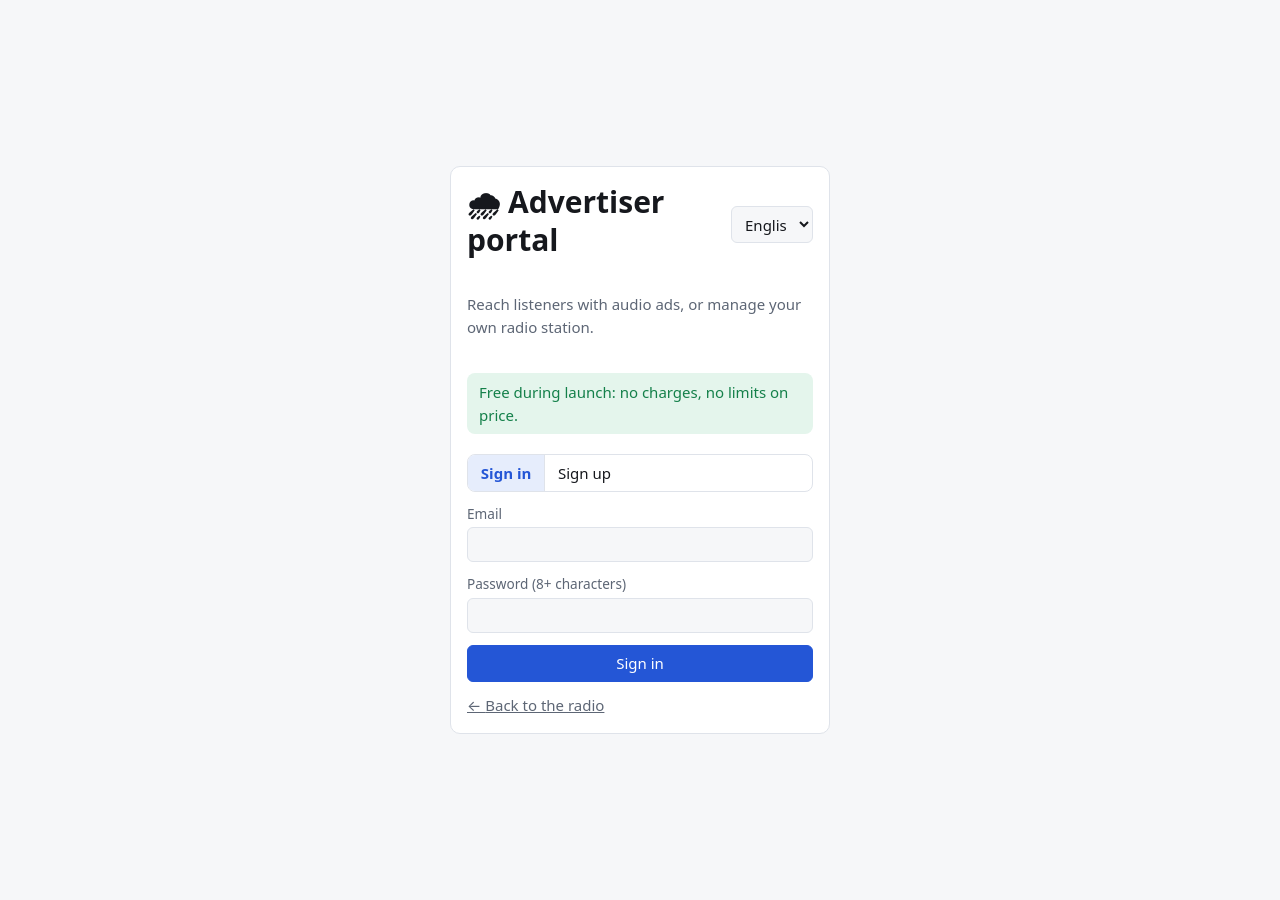
customer portal › shows the FREE note, lets a new customer sign up, and keeps the token in its own store
The image size is (1280, 900).
expect the text "Free during launch: no charges, no limits on price." is shown: met, box top-left (467, 373), bottom-right (813, 434)
Click the tab "Sign up" at (584, 473), box top-left (544, 455), bottom-right (624, 490)
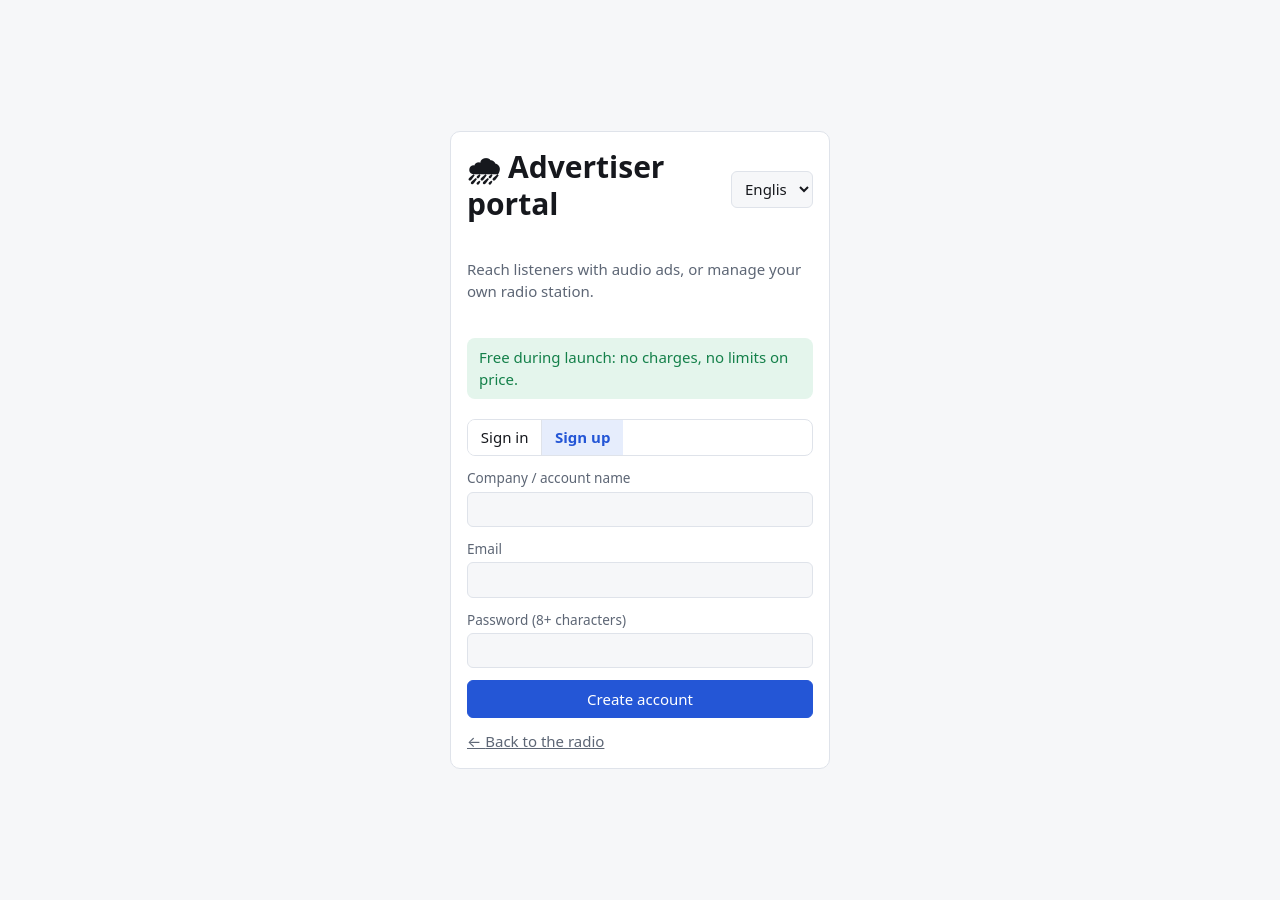
Type "Acme" into the field labelled "Company / account name" at (640, 509), box top-left (467, 492), bottom-right (813, 527)
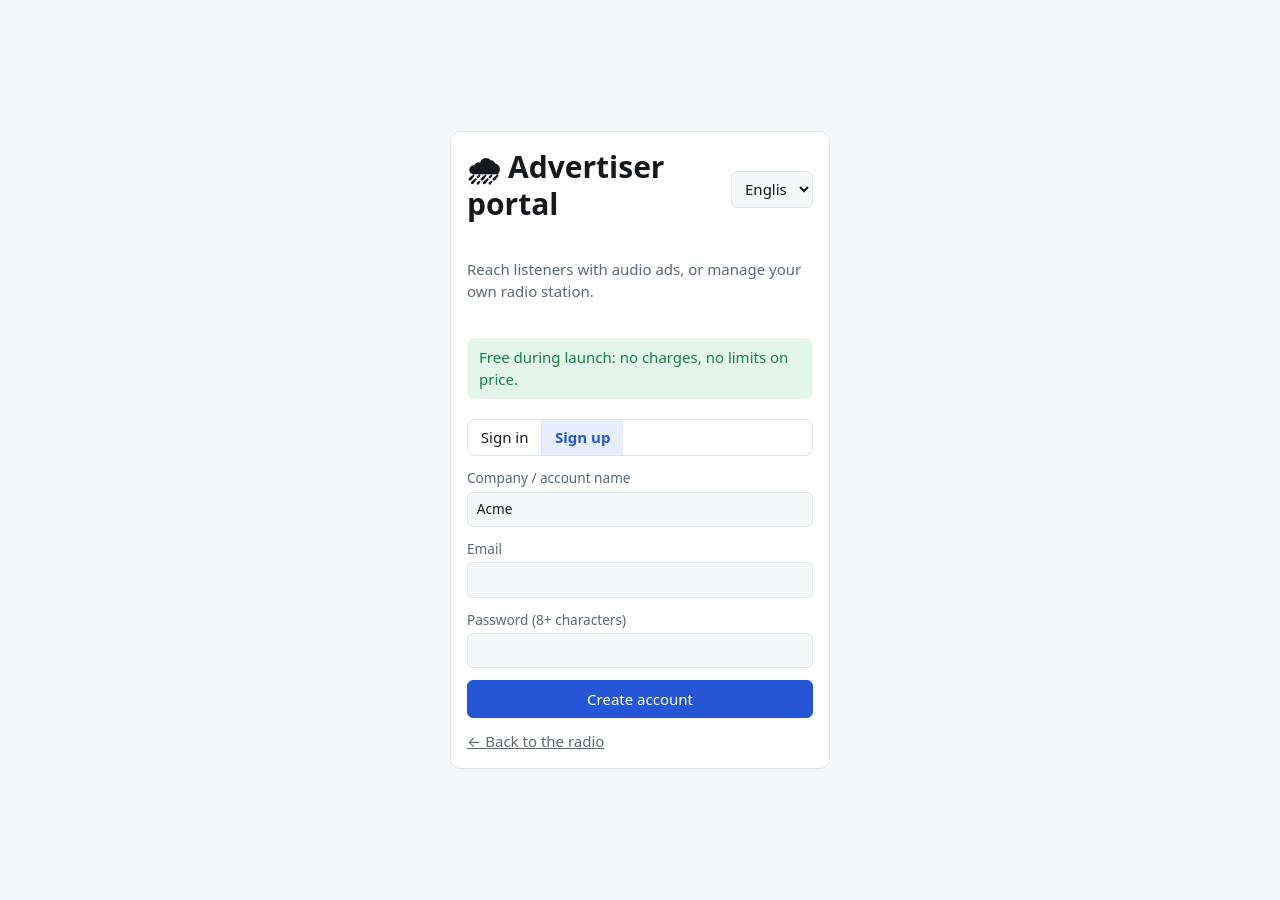
Type "a@b.co" into the field labelled "Email" at (640, 580), box top-left (467, 562), bottom-right (813, 598)
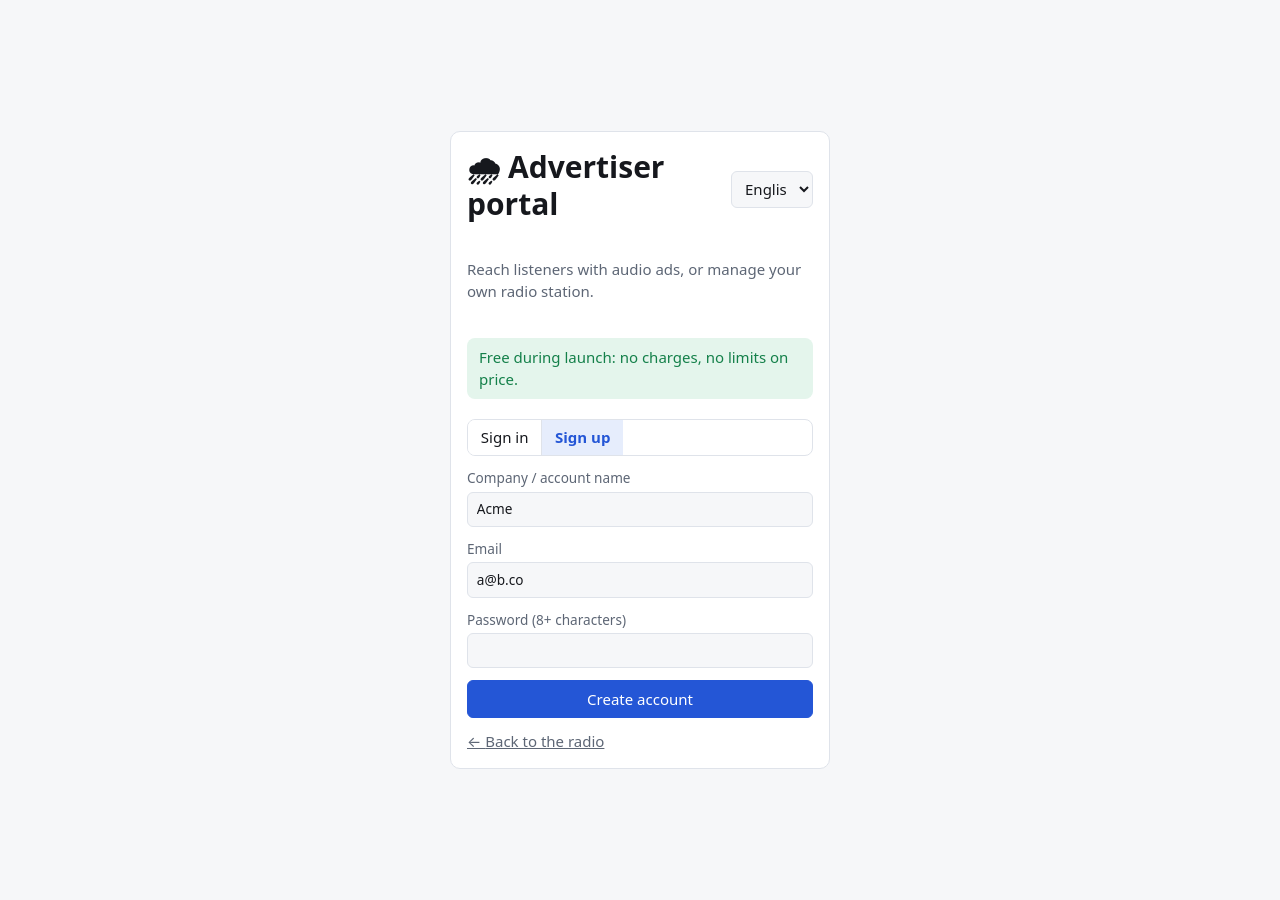
Type "long-password-1" into the password field labelled "Password (8+ characters)" at (640, 651), box top-left (467, 633), bottom-right (813, 668)
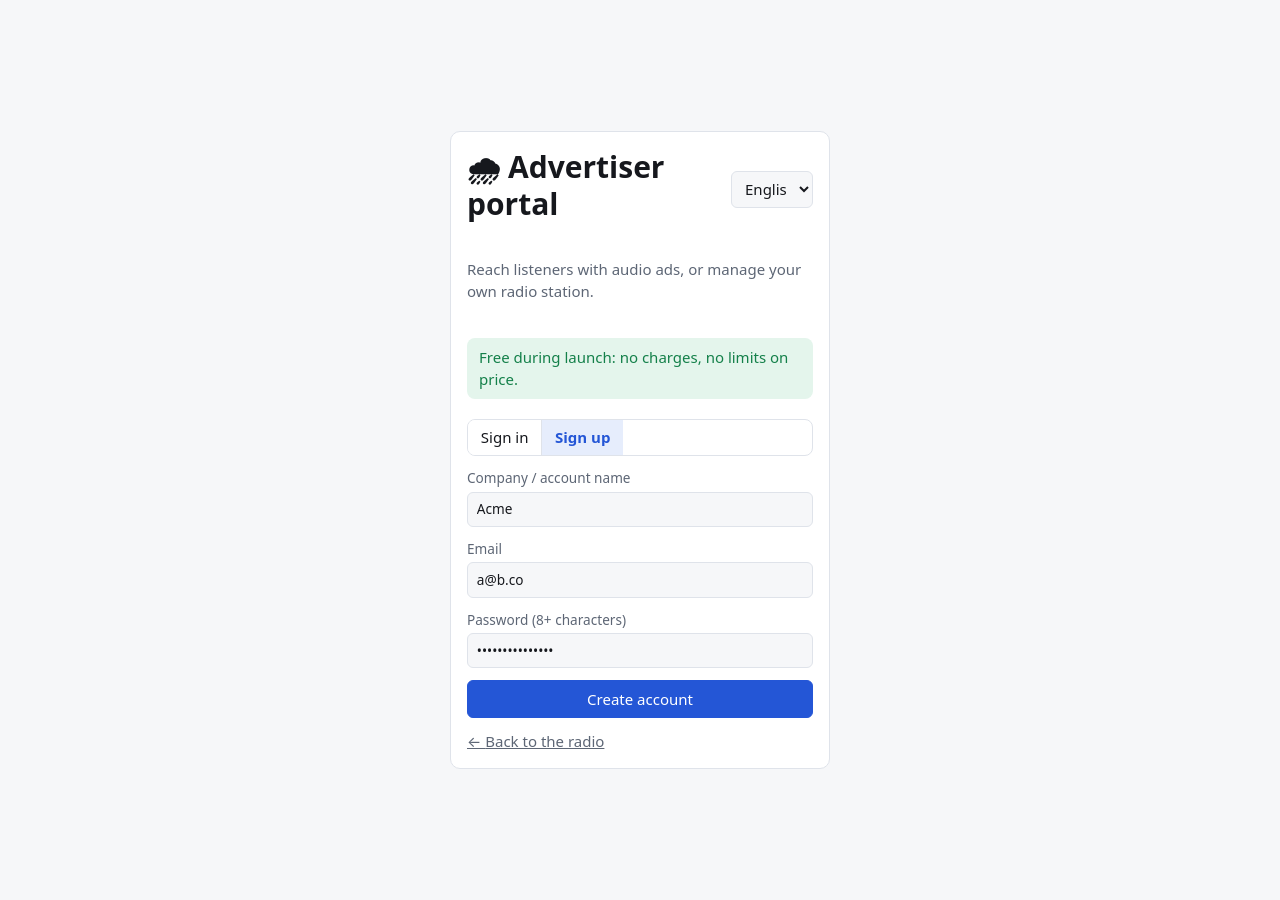
Click the button "Create account" at (640, 699), box top-left (467, 680), bottom-right (813, 718)
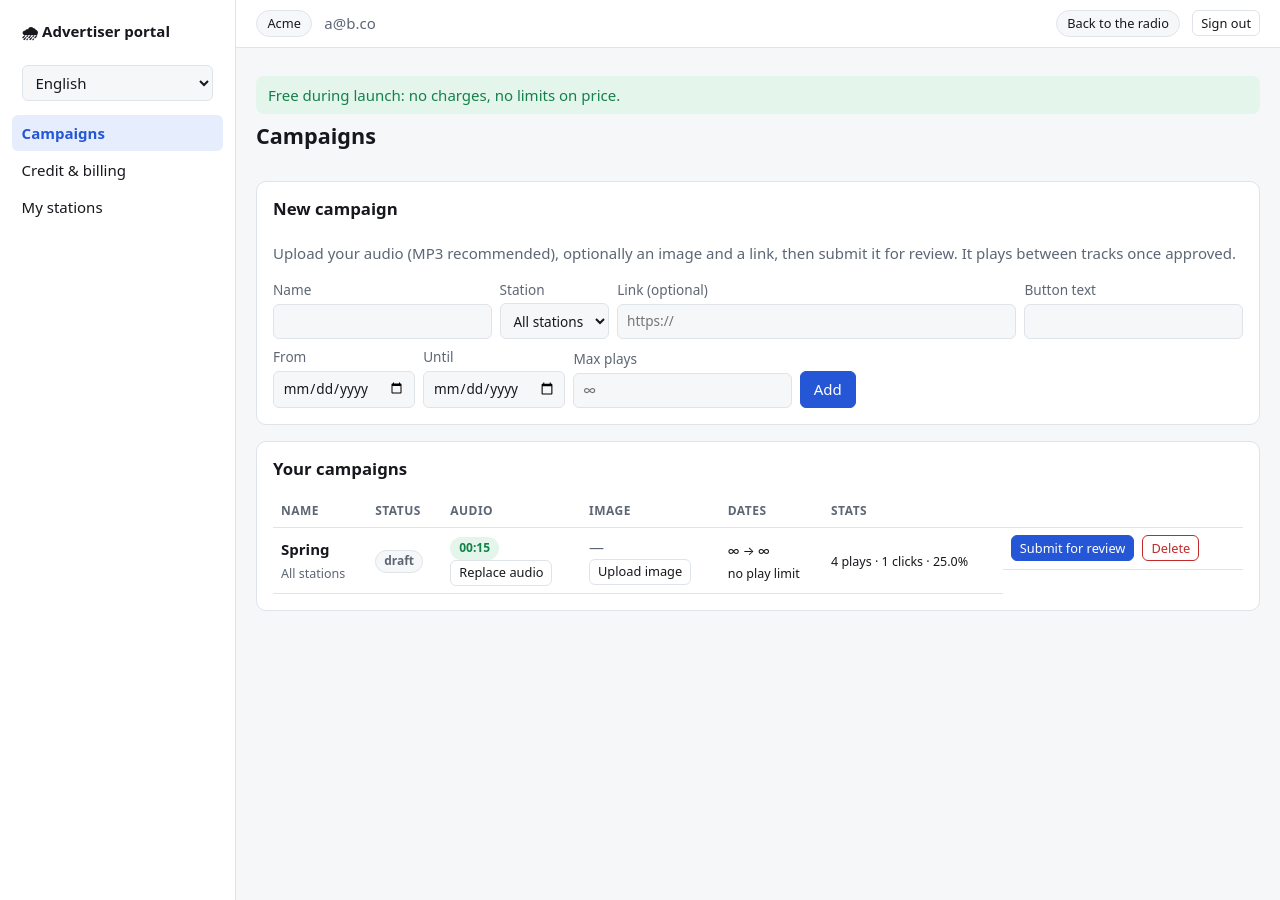
expect the link "Campaigns" is shown: met, box top-left (12, 115), bottom-right (223, 151)
